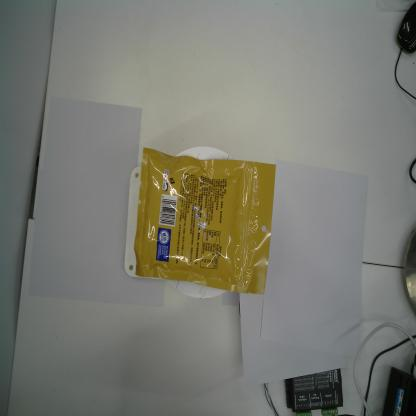Dried Fruit: (134, 147, 276, 295)
